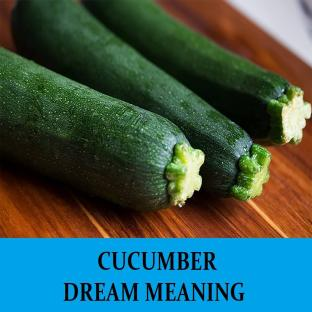Cucumber: (12, 0, 270, 200), (0, 48, 203, 210), (85, 0, 311, 144)
